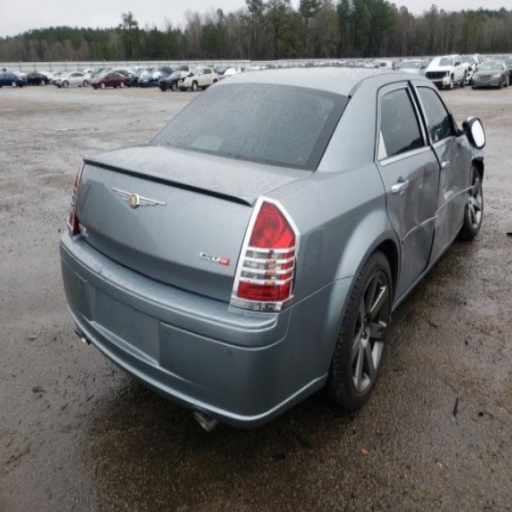dent: (430, 137, 482, 265), (391, 161, 438, 298)
